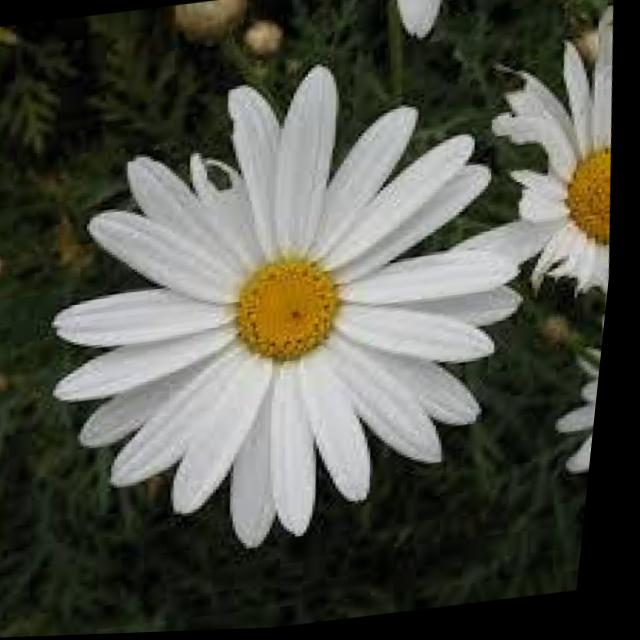Flower: (17, 42, 577, 573)
